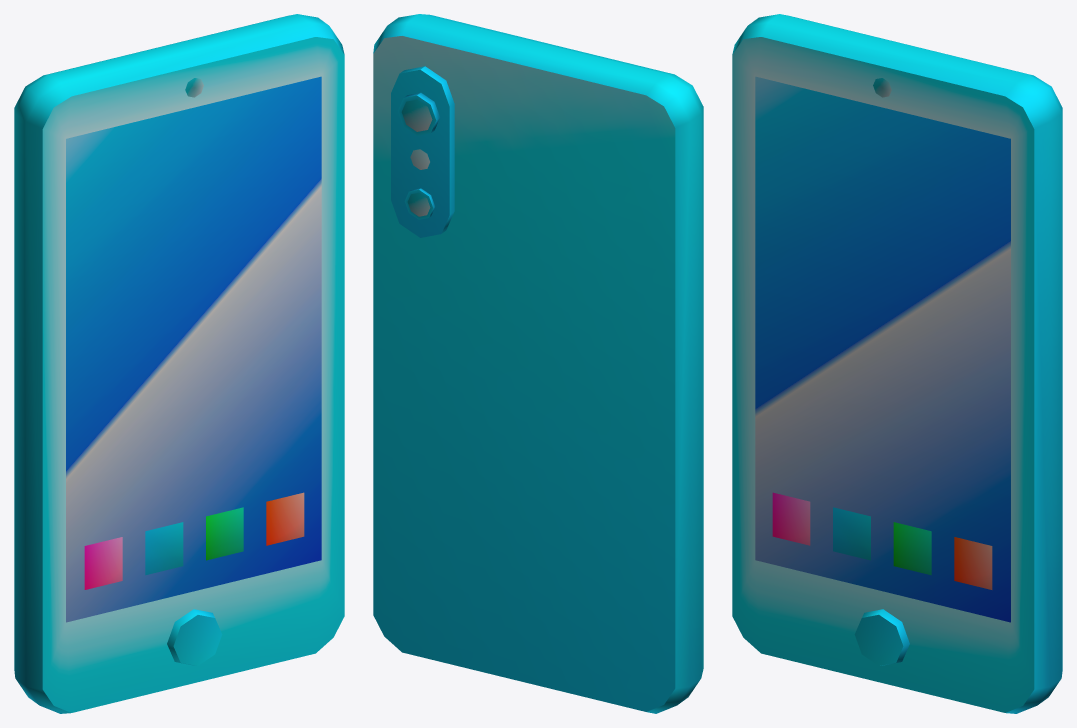
File: smartphone.fbx
The picture shows the model from 3 angles, left to right: view 1: azimuth 30°, elevation 25°; view 2: azimuth 150°, elevation 25°; view 3: azimuth 330°, elevation 25°; orthographic projection.
Parts seen in each view (by area): view 1: smartphone; view 2: smartphone; view 3: smartphone.
Boxes of the visible parts, x1,y1,x2,y2 form: smartphone: (14,14,344,713); smartphone: (373,14,703,713); smartphone: (732,14,1062,713).
Size of the model in its own units: 7.47 by 14.27 by 1.7.
